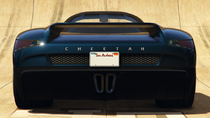car: (15, 13, 196, 111)
